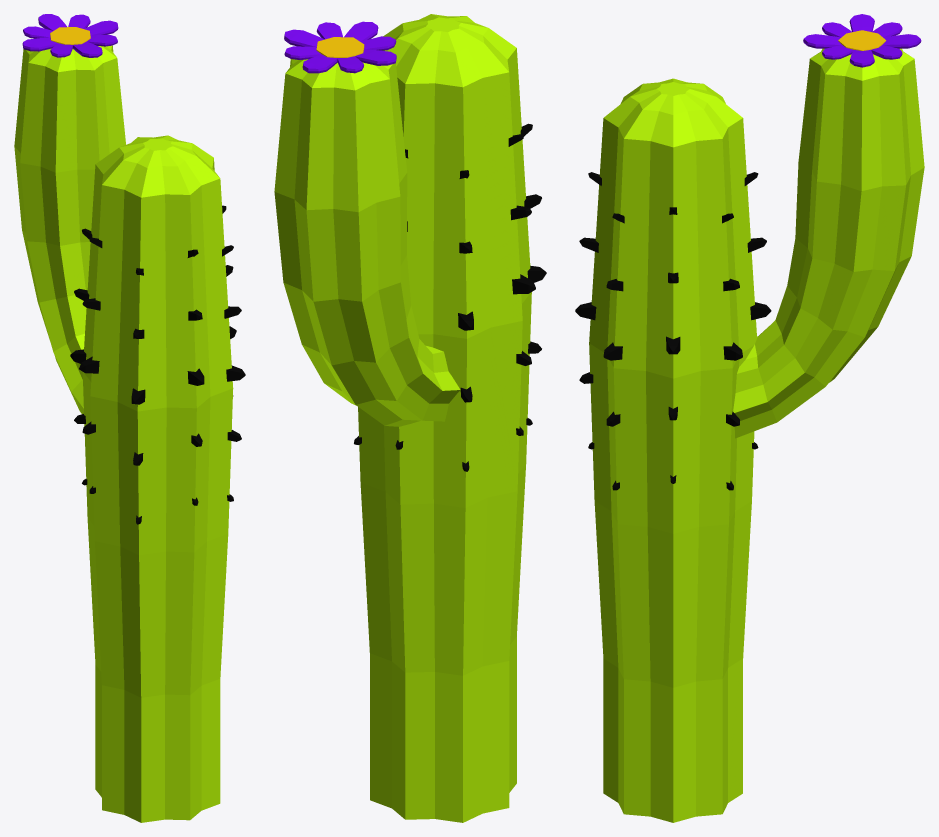
Rendered from Cardon03_01Brazo_Flor_Morada.fbx.
3 views of the same model, side by side, from view 1: azimuth 30°, elevation 25°; view 2: azimuth 150°, elevation 25°; view 3: azimuth 270°, elevation 25° (orthographic). The views are drawn at different scales.
Visible parts, largest first — view 1: Cactus_Cuerpo, Espinas, Flor_Morado; view 2: Cactus_Cuerpo, Flor_Morado, Espinas; view 3: Cactus_Cuerpo, Flor_Morado, Espinas.
Boxes of the visible parts, x1,y1,x2,y2 form: Cactus_Cuerpo: (14, 45, 233, 822); Espinas: (70, 205, 245, 524); Flor_Morado: (22, 14, 118, 57); Cactus_Cuerpo: (274, 14, 531, 822); Flor_Morado: (284, 21, 396, 73); Espinas: (354, 123, 546, 471); Cactus_Cuerpo: (589, 48, 924, 822); Flor_Morado: (803, 14, 921, 67); Espinas: (575, 172, 771, 490).
Size of the model in its own units: 53.18 by 226 by 94.85.
